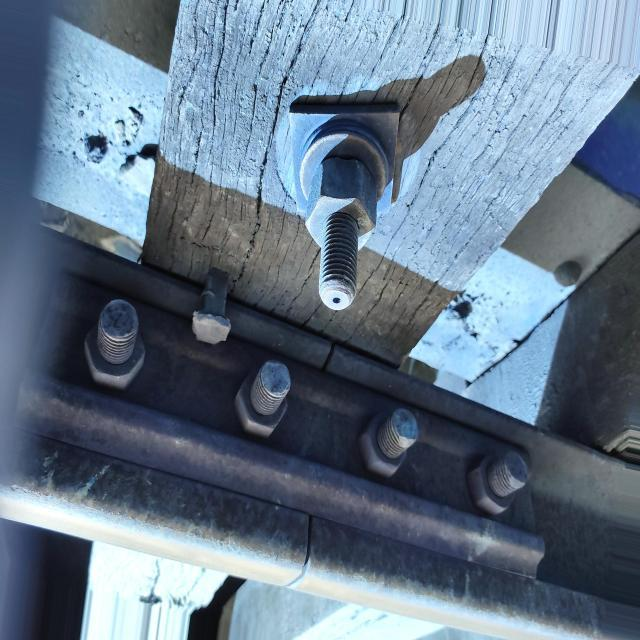Good Fasteners: (260, 67, 478, 376)
Good Joint: (18, 235, 601, 623)
